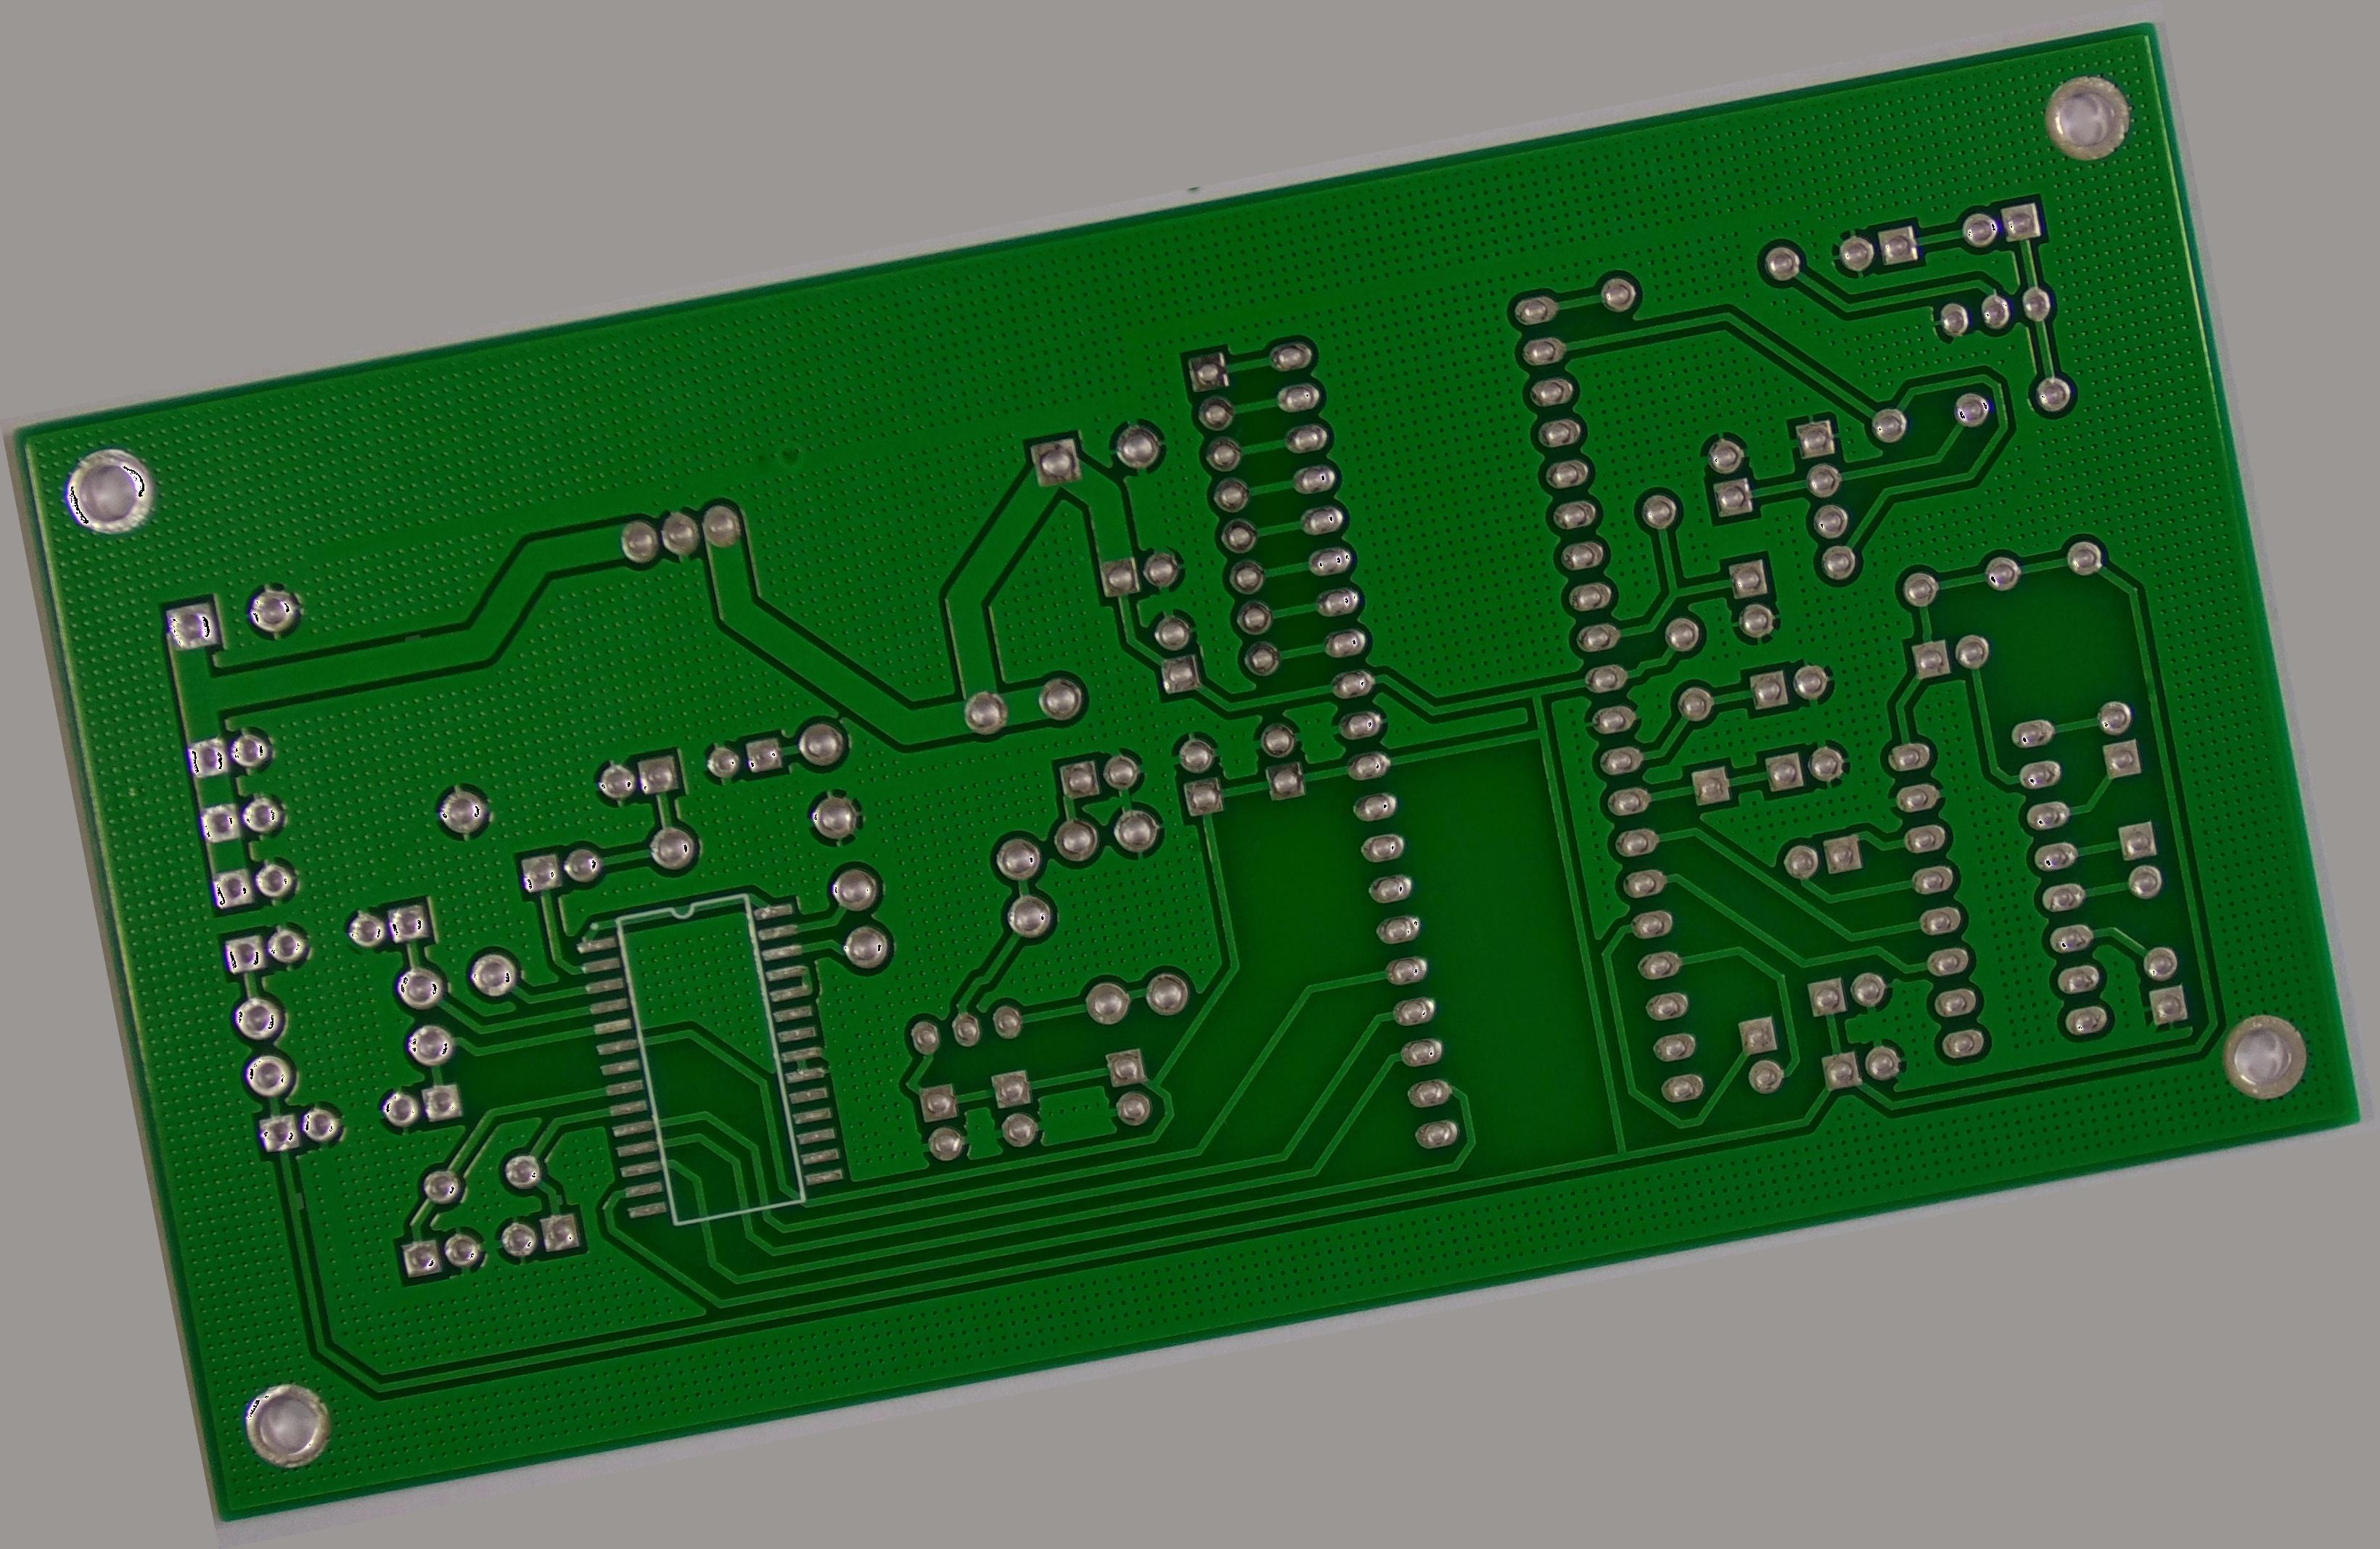spur: (390, 626, 435, 661), (279, 1185, 309, 1218), (539, 1185, 569, 1214)
